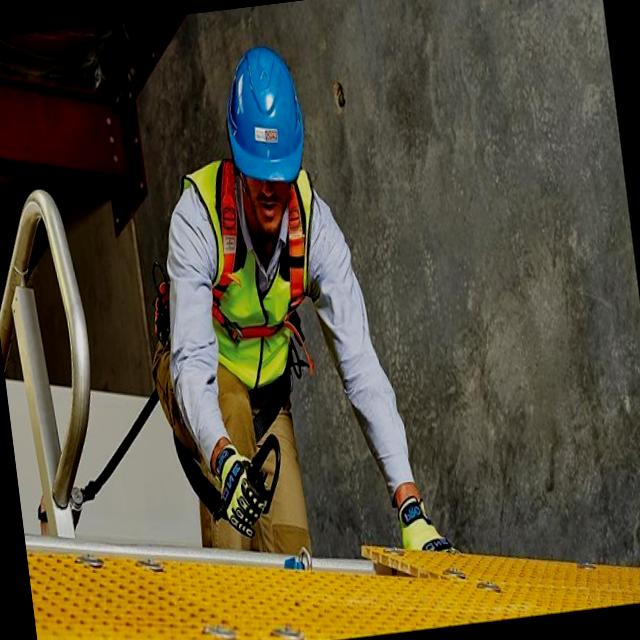helmet: (215, 34, 320, 191)
vest: (188, 170, 338, 398)
